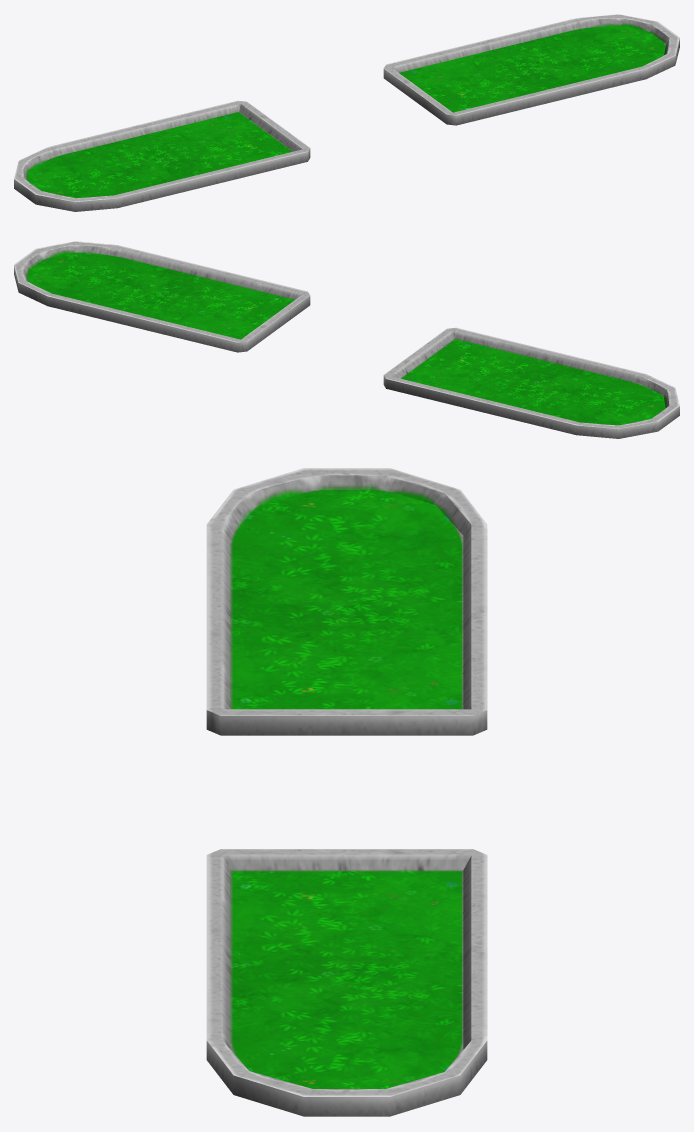
File: shendian_huatan1.FBX
The picture shows the model from 3 angles, top to bottom: view 1: azimuth 30°, elevation 25°; view 2: azimuth 150°, elevation 25°; view 3: azimuth 270°, elevation 25°; orthographic projection. The views are drawn at different scales.
Visible parts, largest first — view 1: shendian_zhiwu_3; view 2: shendian_zhiwu_3; view 3: shendian_zhiwu_3.
Boxes of the visible parts, x1,y1,x2,y2 form: shendian_zhiwu_3: (14, 14, 679, 211); shendian_zhiwu_3: (14, 241, 679, 438); shendian_zhiwu_3: (206, 468, 487, 1116).
Size of the model in its own units: 3183 by 49.48 by 600.
